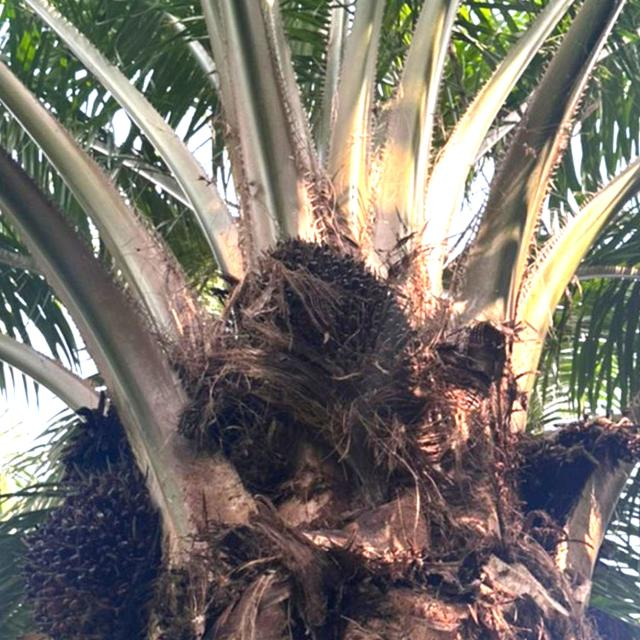unripe: (228, 235, 432, 418), (19, 466, 174, 640)
